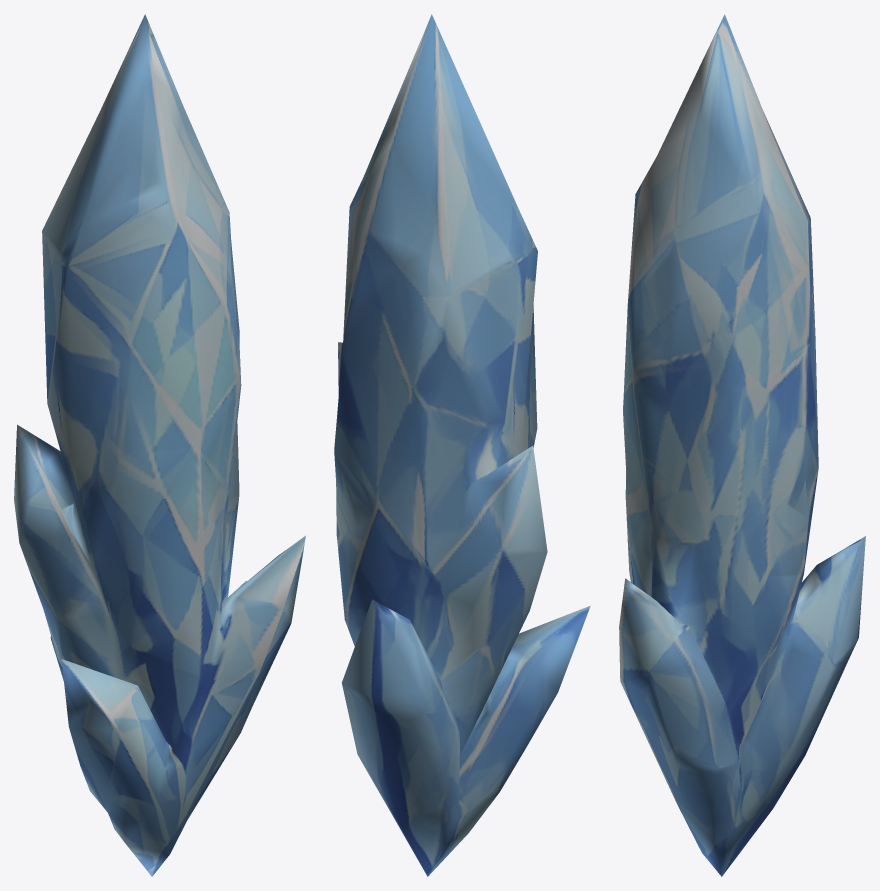
Rendered from blueSrystal.fbx.
The picture shows the model from 3 angles, left to right: view 1: azimuth 30°, elevation 25°; view 2: azimuth 150°, elevation 25°; view 3: azimuth 270°, elevation 25°; orthographic projection.
Parts seen in each view (by area): view 1: tripo_node_58268da4; view 2: tripo_node_58268da4; view 3: tripo_node_58268da4.
Boxes of the visible parts, left/top/right/bottom form: tripo_node_58268da4: left=14, top=14, right=305, bottom=876; tripo_node_58268da4: left=334, top=14, right=590, bottom=876; tripo_node_58268da4: left=619, top=14, right=865, bottom=876.
Bounding box in the file's own units: 28.13 × 26 × 100.
Materials: 1 (1 with a texture image).
